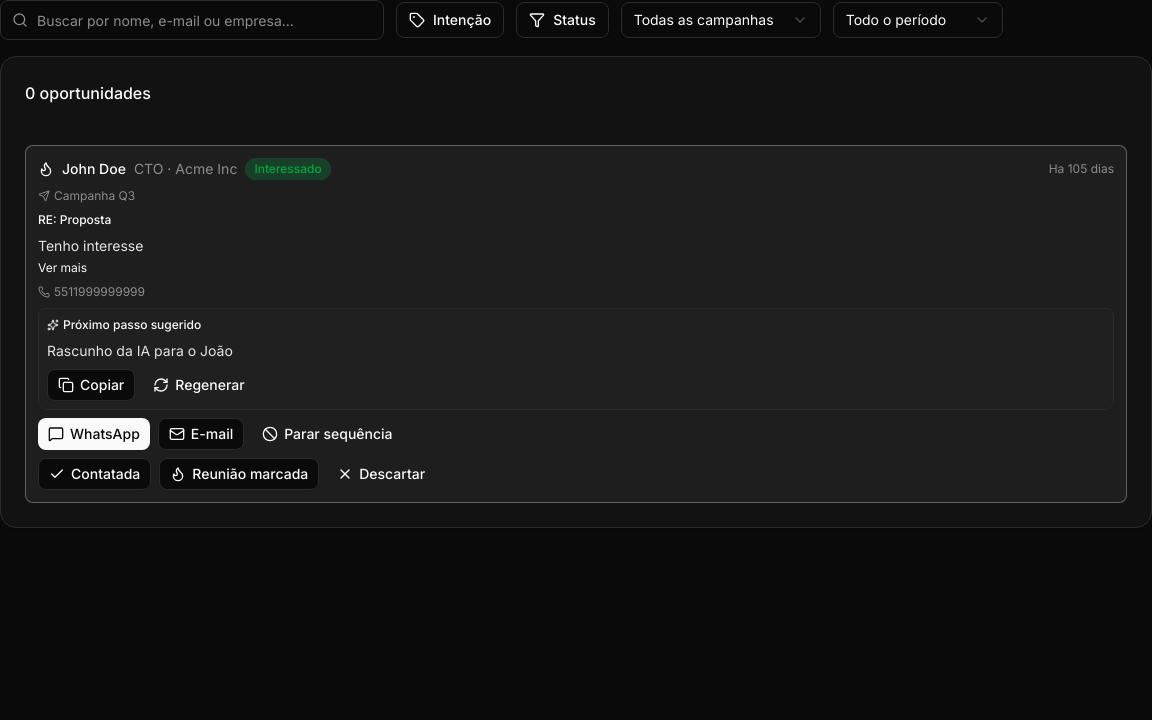
Test: OpportunitiesPageContent — ações (Story 21.5) › abrir o composer via WhatsApp pré-preenche com o rascunho (suggestion)
The image size is (1152, 720).
Click the button with test id "opportunity-action-whatsapp".
click(94, 434)  # box 38,418 -> 150,450
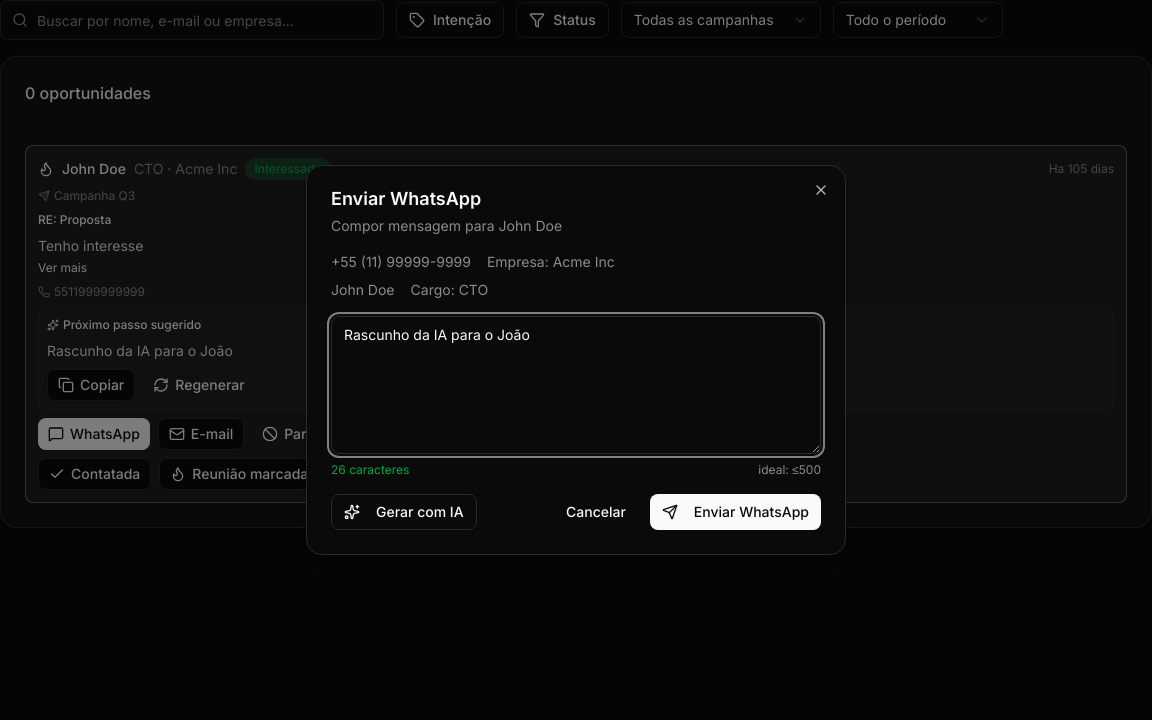
Check: the dialog with test id "whatsapp-composer-dialog" is shown, box 306,165 -> 846,555
Check: the text box showing "Rascunho da IA para o João" is shown, box 331,316 -> 821,454
